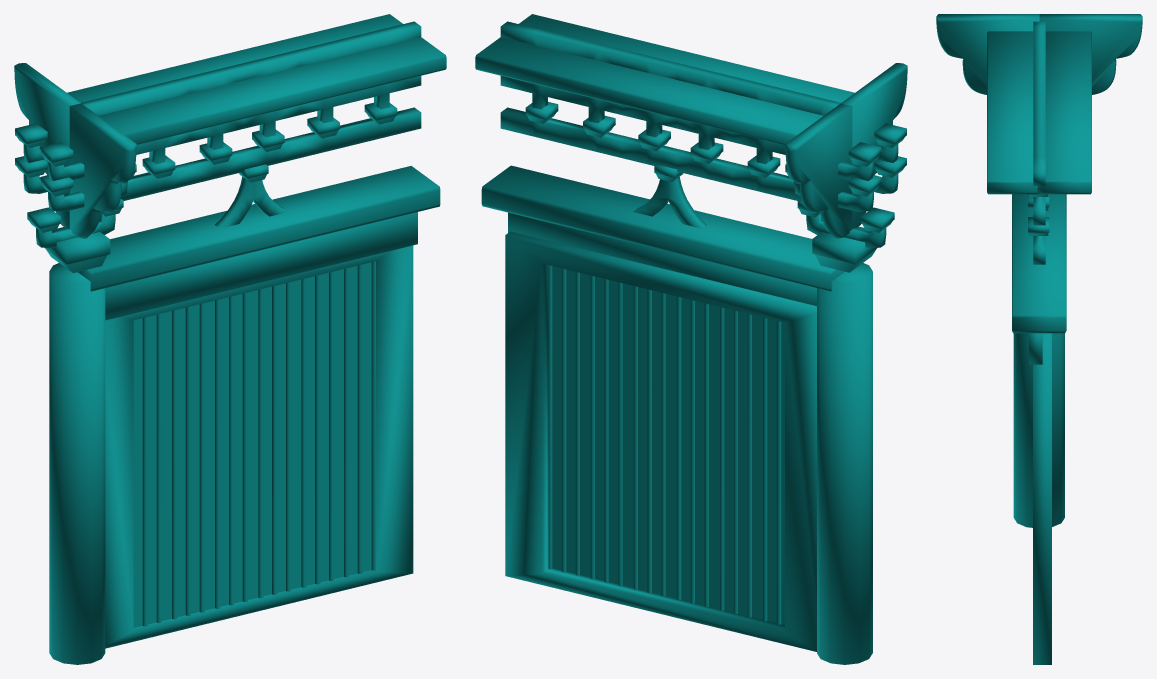
Rendered from 황룡사_리소스_막힌_문.fbx.
3 renders of one model, left to right at view 1: azimuth 30°, elevation 25°; view 2: azimuth 150°, elevation 25°; view 3: azimuth 270°, elevation 25°, orthographic. The views are drawn at different scales.
Parts seen in each view (by area): view 1: dsaw; view 2: dsaw; view 3: dsaw.
Boxes of the visible parts, <box> form: dsaw: <box>14,14,446,664</box>; dsaw: <box>475,14,907,664</box>; dsaw: <box>936,14,1142,664</box>.
Size of the model in its own units: 272 by 364 by 136.
